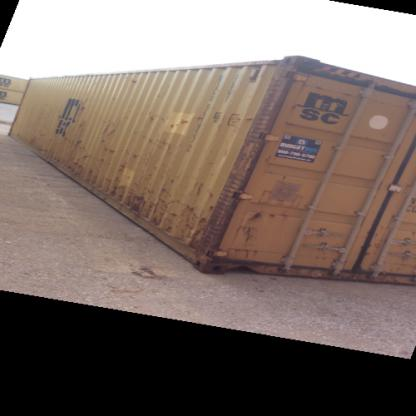Damage: (144, 174, 219, 246), (234, 206, 294, 256), (97, 176, 142, 211), (25, 125, 63, 160), (66, 150, 98, 186), (160, 111, 206, 131), (180, 134, 207, 156), (99, 120, 116, 144), (74, 96, 93, 112), (160, 138, 176, 156), (143, 108, 159, 124), (124, 142, 138, 160), (240, 112, 254, 127), (104, 142, 118, 154), (116, 158, 126, 172), (72, 118, 88, 126), (126, 76, 142, 83), (72, 136, 82, 146)
